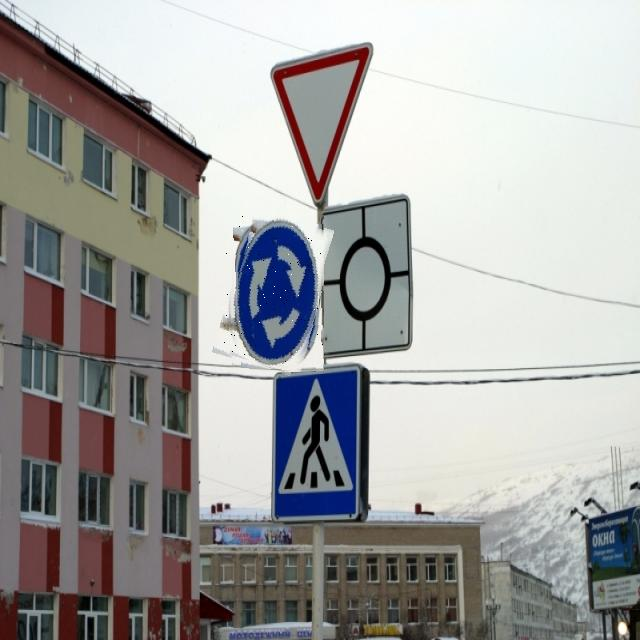roundabout: (222, 212, 324, 372)
